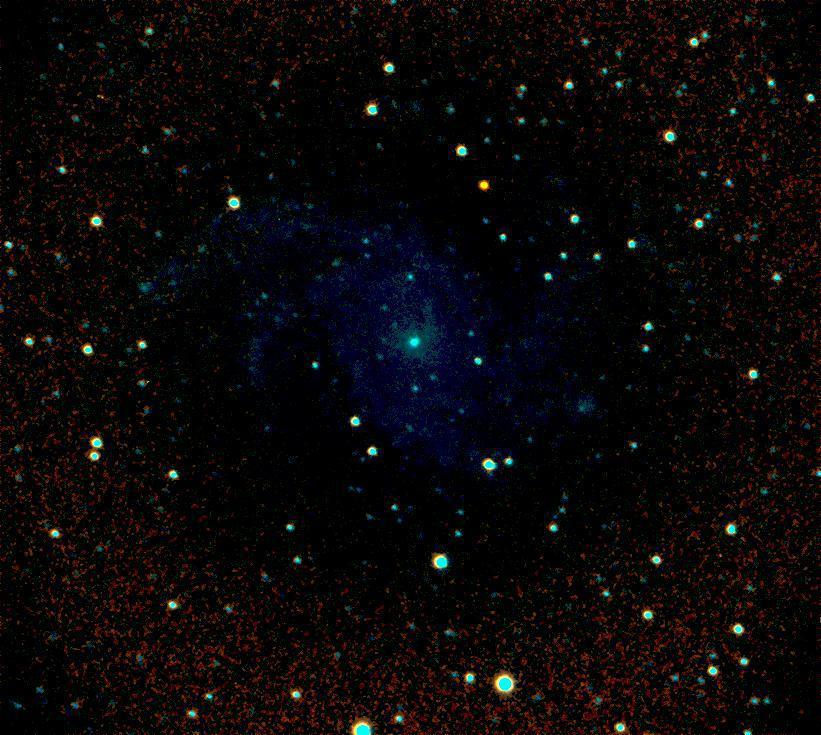star: (472, 170, 502, 200)
